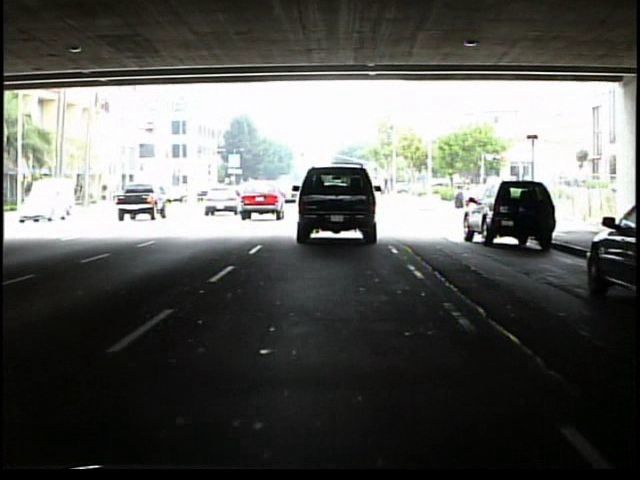person: (451, 183, 465, 214)
